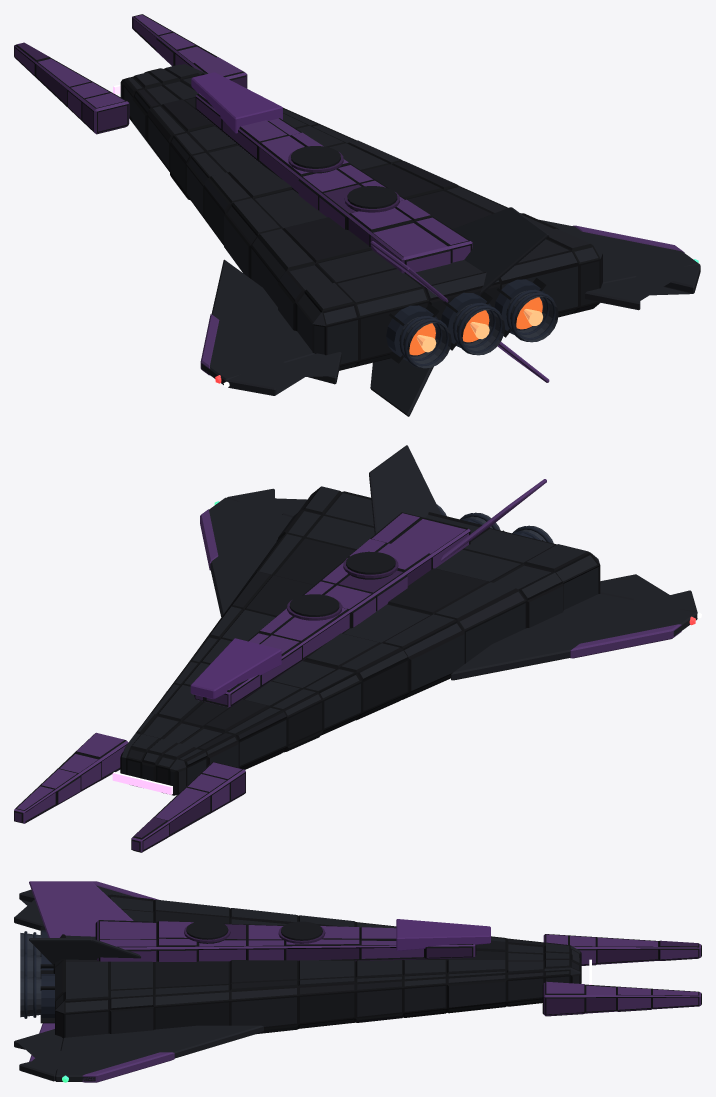
File: obsidian.glb
3 views of the same model, one above another, from view 1: azimuth 30°, elevation 25°; view 2: azimuth 150°, elevation 25°; view 3: azimuth 270°, elevation 25° (orthographic). The views are drawn at different scales.
Visible parts, largest first — view 1: obsidian_mesh; view 2: obsidian_mesh; view 3: obsidian_mesh.
Boxes of the visible parts, x1,y1,x2,y2 form: obsidian_mesh: [14, 14, 700, 416]; obsidian_mesh: [14, 445, 697, 852]; obsidian_mesh: [14, 881, 701, 1082].
Size of the model in its own units: 14.22 by 4.19 by 20.95.
